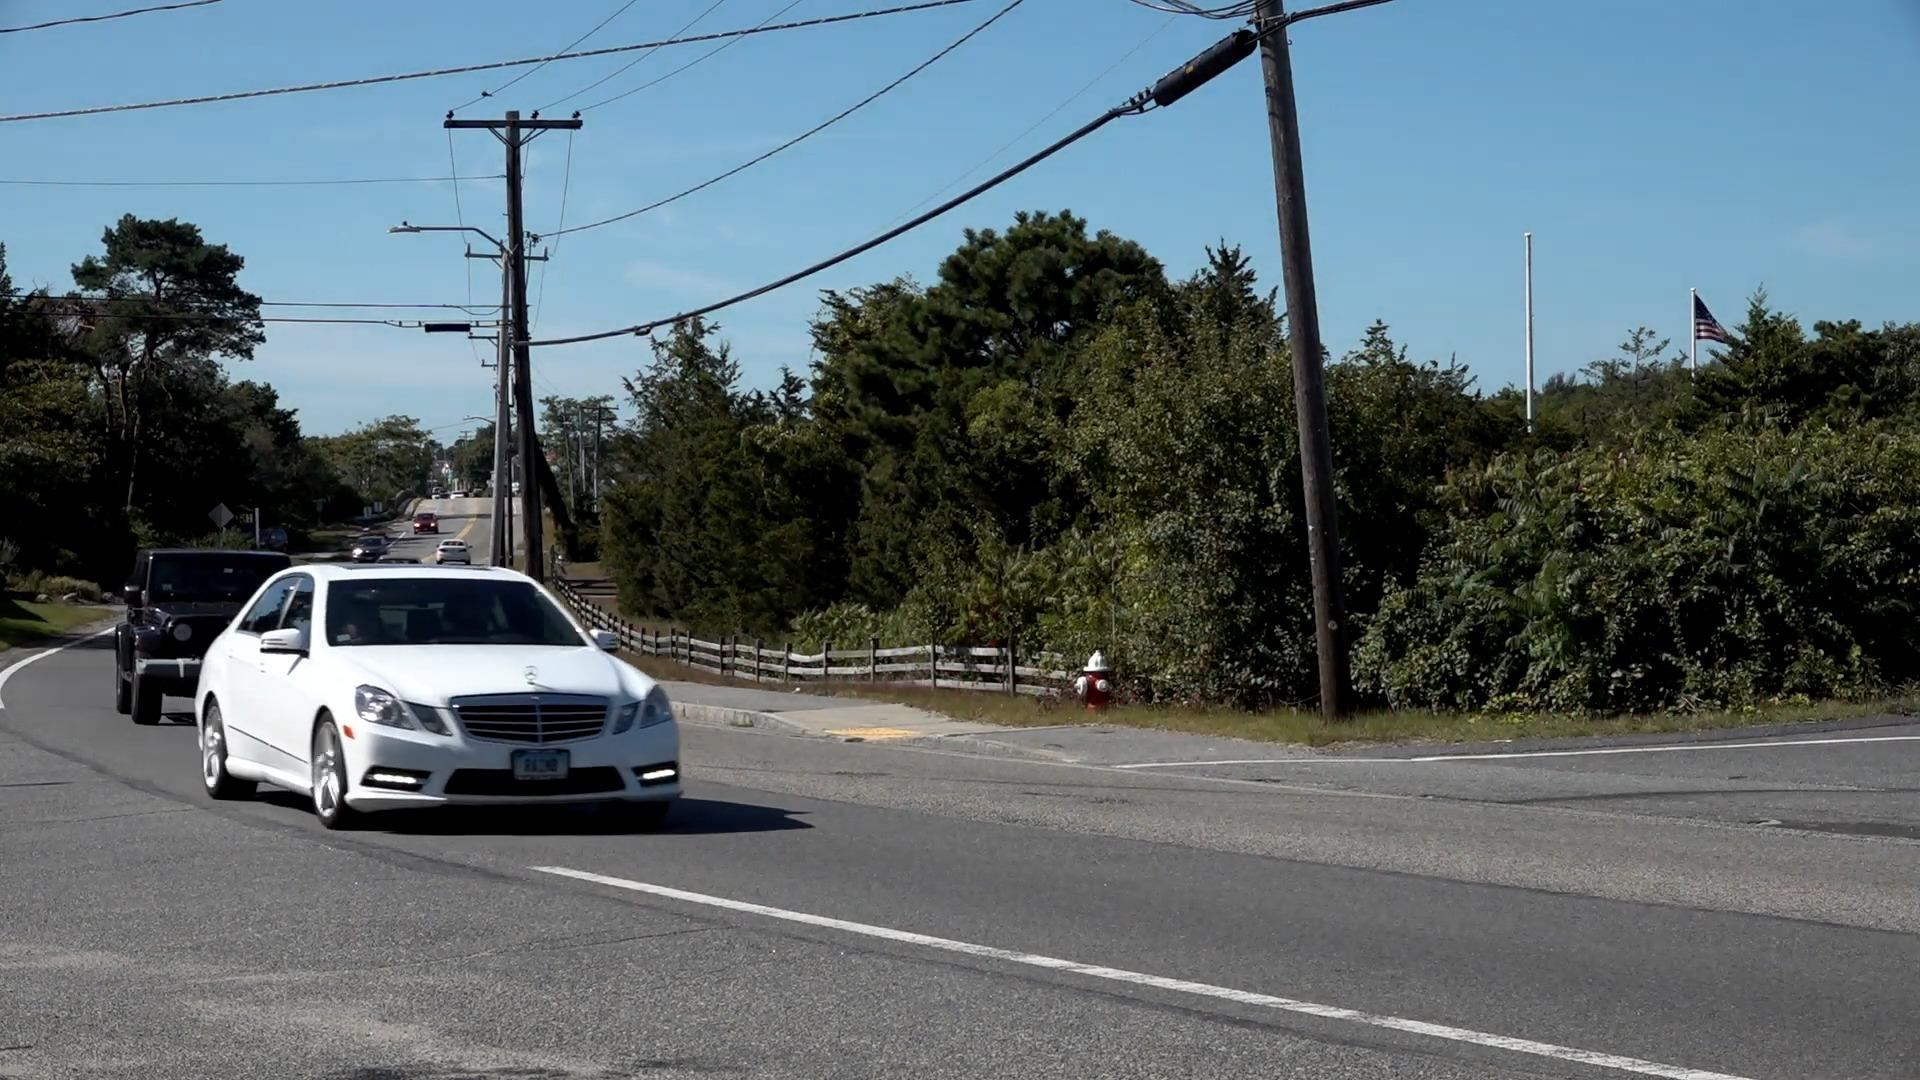sedans: (200, 566, 687, 825)
suv: (117, 553, 200, 724)
